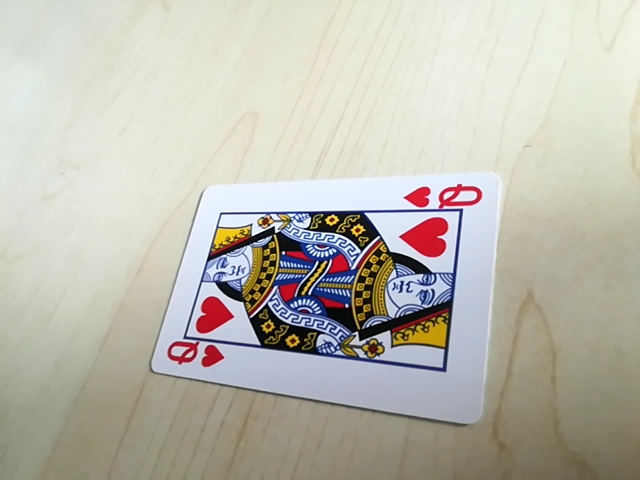hx q: (402, 179, 489, 213), (160, 338, 226, 373)
